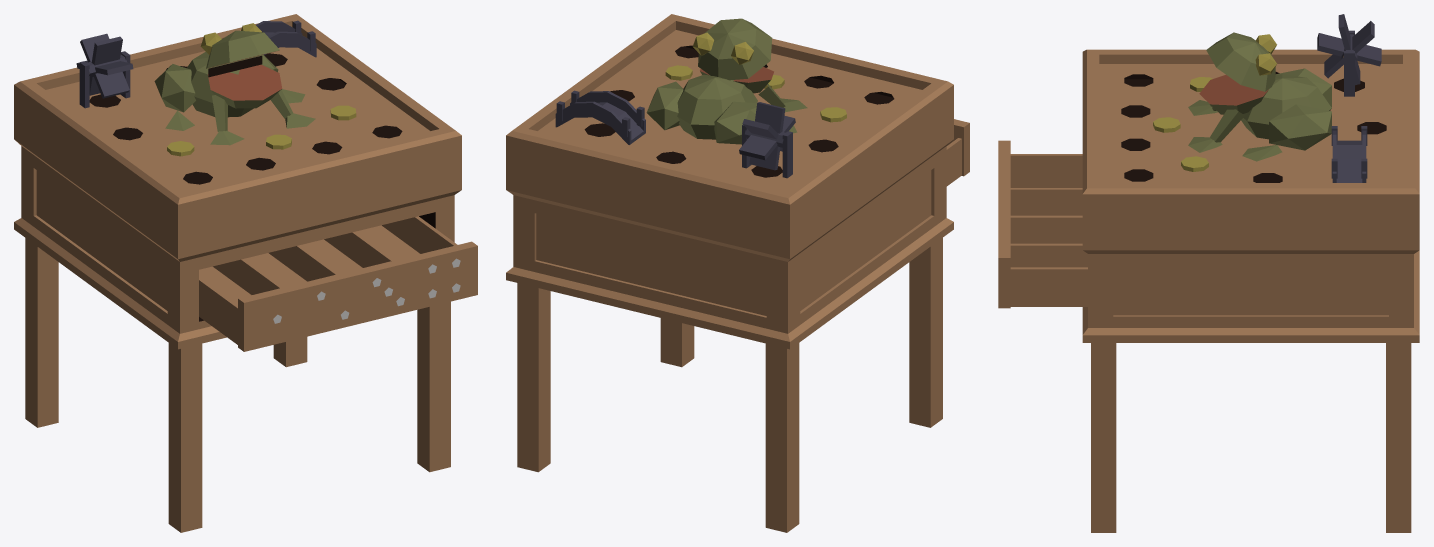
Rendered from juego-de-la-rana-659e89.glb.
3 renders of one model, left to right at view 1: azimuth 30°, elevation 25°; view 2: azimuth 150°, elevation 25°; view 3: azimuth 270°, elevation 25°, orthographic. The views are drawn at different scales.
Visible parts, largest first — view 1: cabinet, drawer-mesh, paddle-wheel-mesh; view 2: cabinet, paddle-wheel-mesh, drawer-mesh; view 3: cabinet, drawer-mesh, paddle-wheel-mesh.
Part boxes in pixels (<box>): cabinet: <box>14,14,461,532</box>; drawer-mesh: <box>199,216,477,351</box>; paddle-wheel-mesh: <box>76,33,133,98</box>; cabinet: <box>506,14,953,532</box>; paddle-wheel-mesh: <box>739,102,795,170</box>; drawer-mesh: <box>946,119,969,186</box>; cabinet: <box>1082,30,1419,532</box>; drawer-mesh: <box>998,140,1087,308</box>; paddle-wheel-mesh: <box>1317,14,1381,85</box>.
Bounding box in the file's own units: 0.6 × 0.8392 × 0.75.
